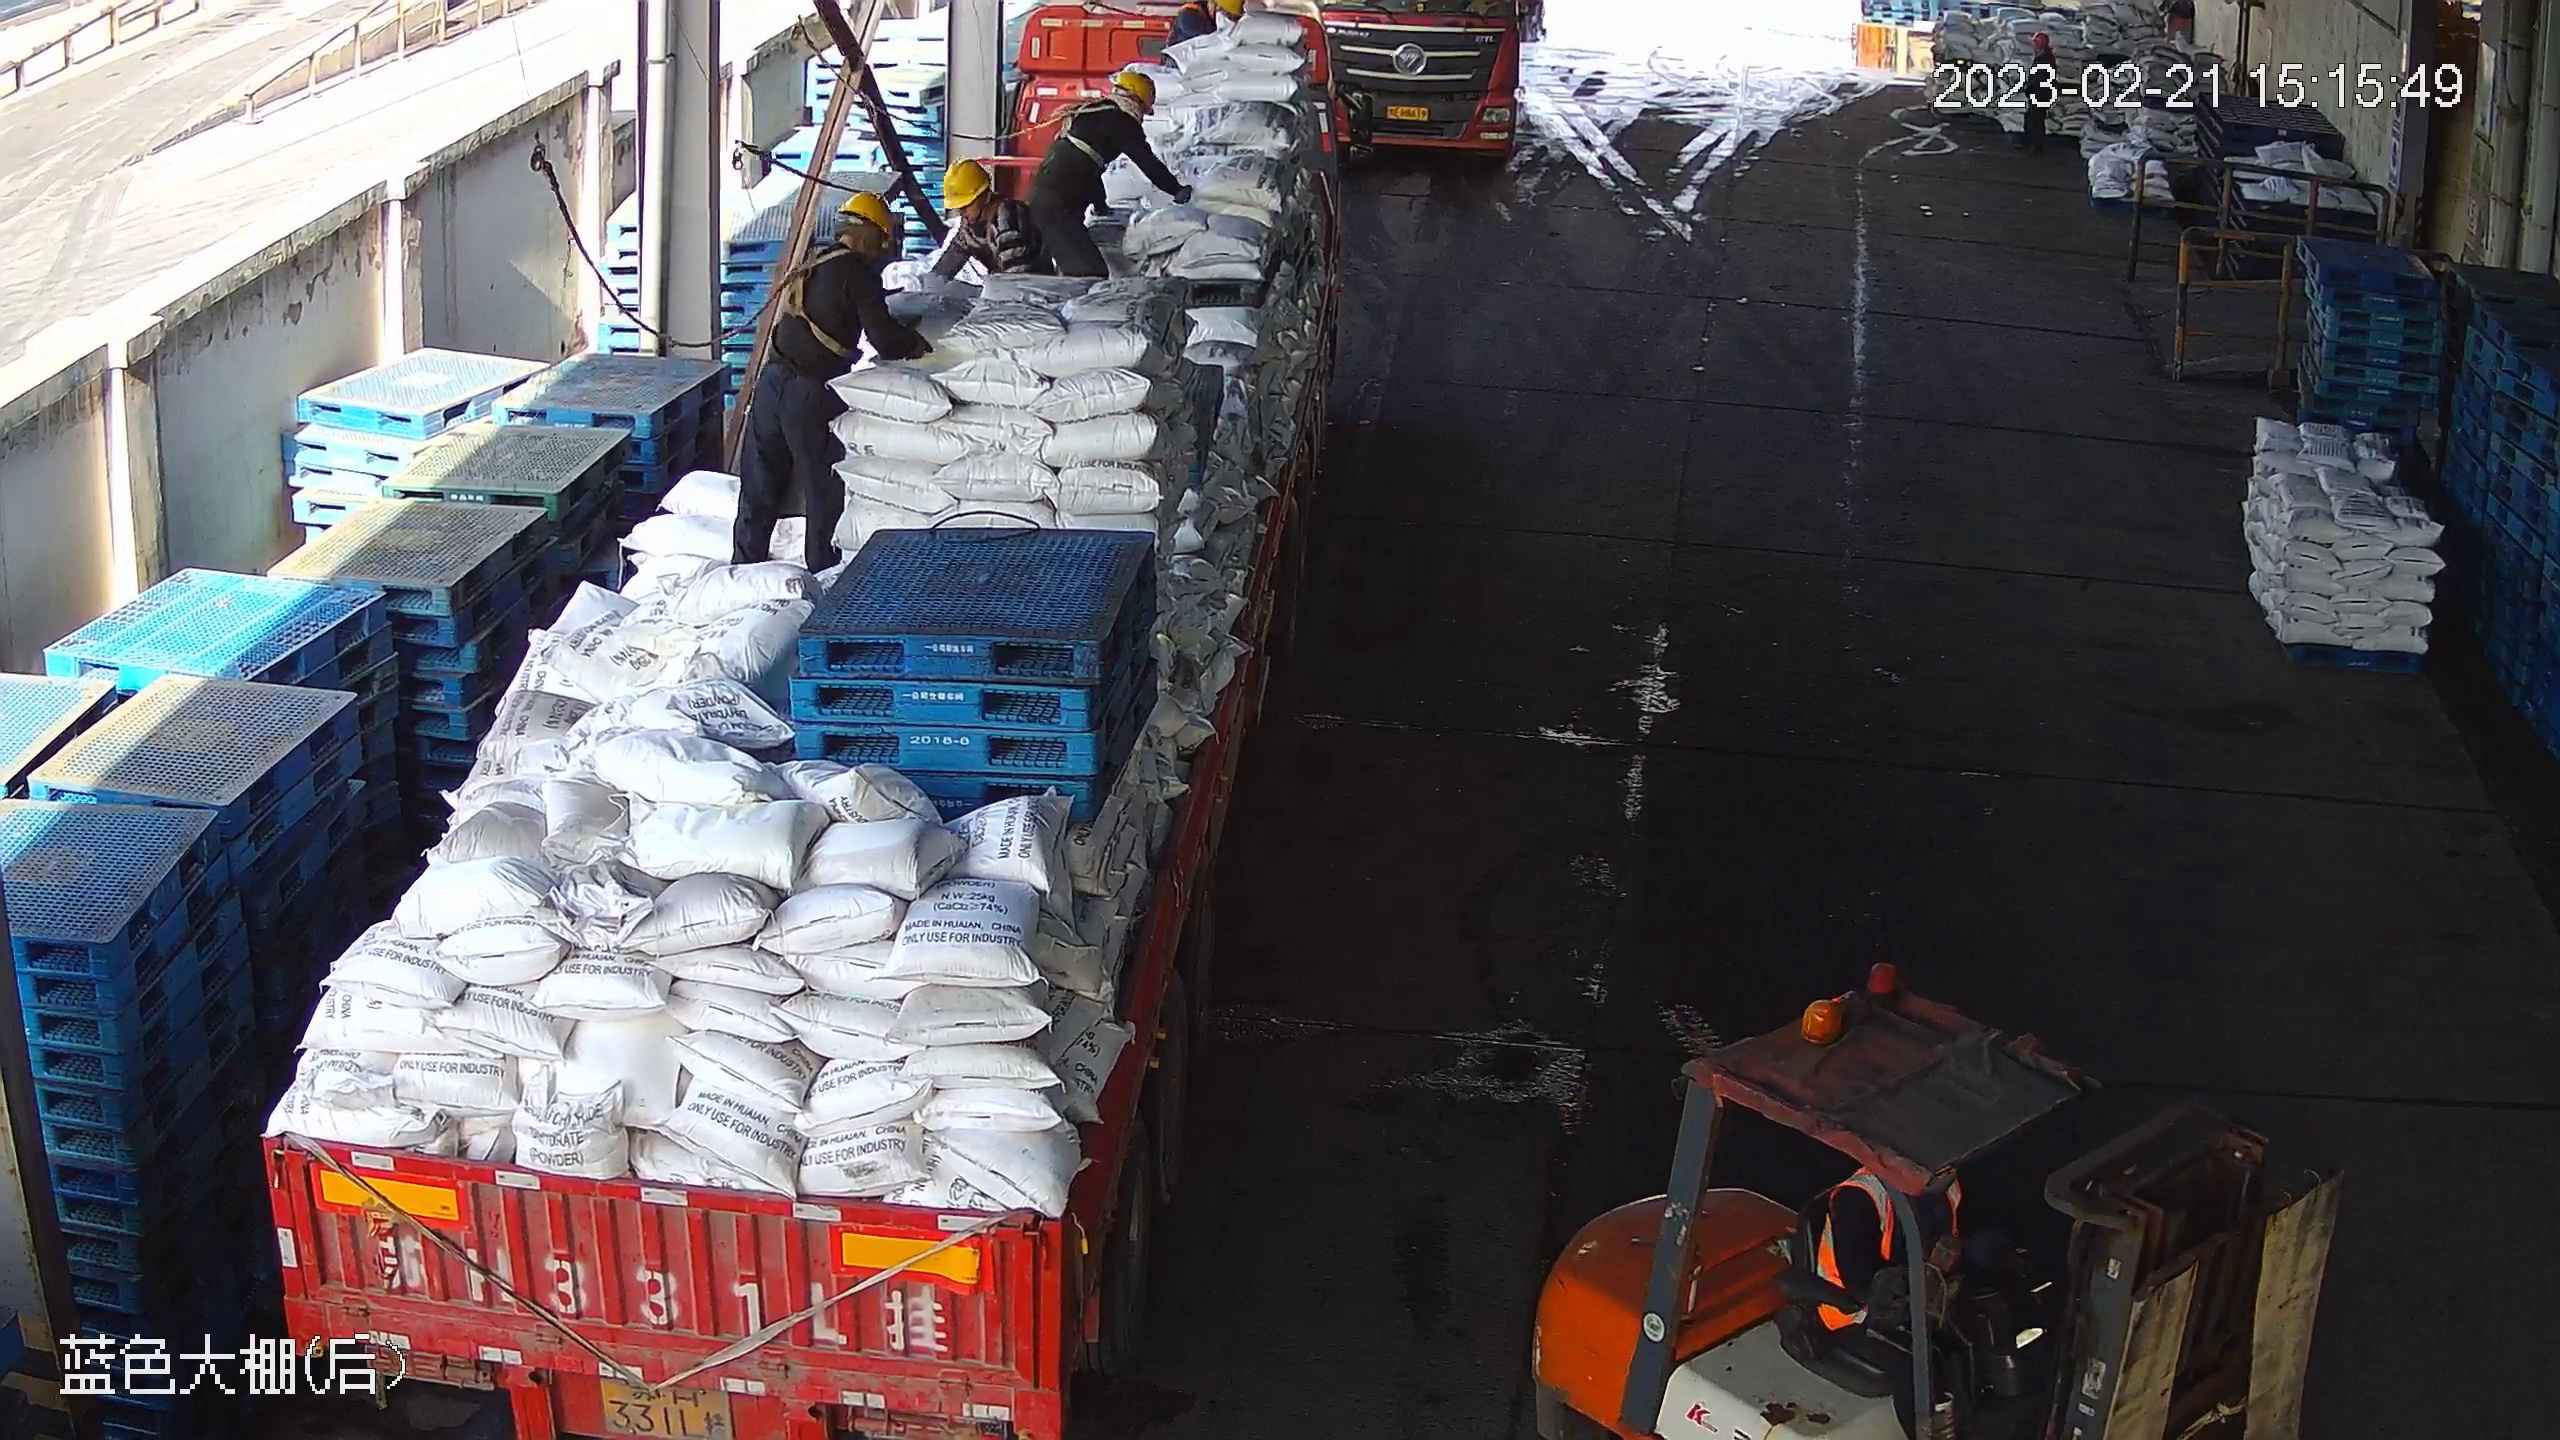belt: (770, 242, 861, 368), (1046, 97, 1122, 162)
head: (772, 179, 894, 320), (1053, 66, 1168, 171), (933, 166, 1040, 245)
helmet: (823, 182, 901, 247), (931, 157, 996, 214), (1111, 68, 1162, 110)
people: (722, 184, 911, 568), (1016, 70, 1185, 294)
truck: (238, 12, 1338, 1440), (1322, 1, 1533, 181)
